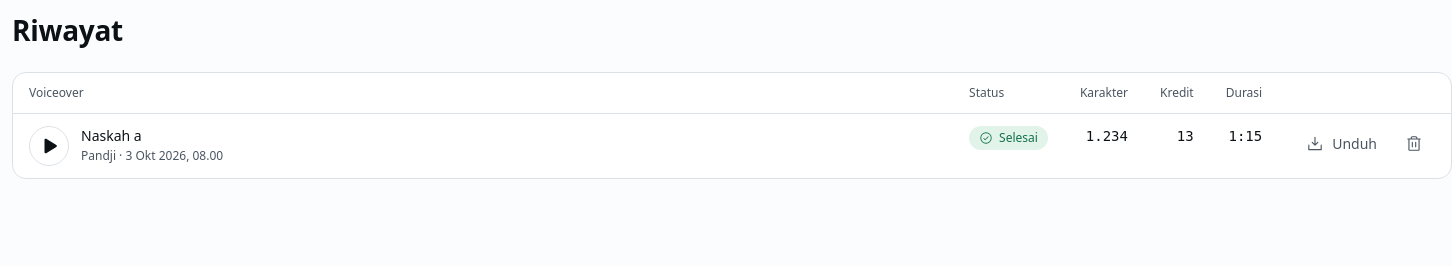
Test: HistoryPage › confirms in a full-width row under the item, moving focus into and out of the prompt
The image size is (1452, 266).
Click the button named "Hapus Naskah a" at coordinates (1414, 144), box [1393,126,1435,162]
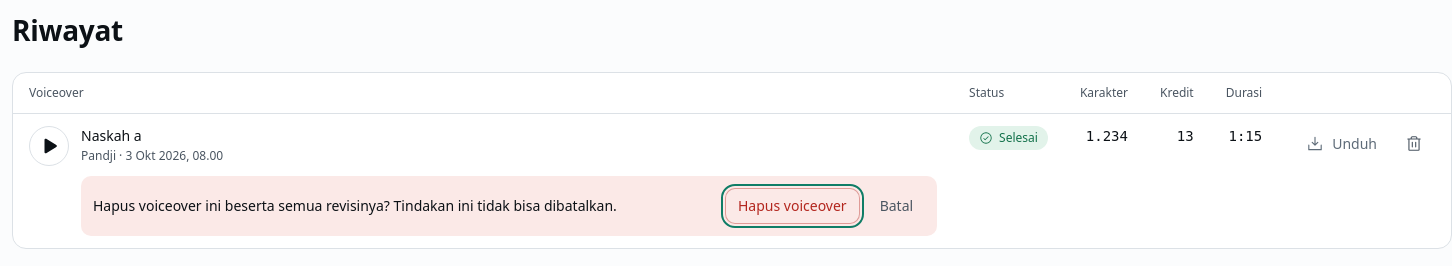
Check: the message shows "tidak bisa dibatalkan", box [93,196,617,215]
Click the button "Batal" at coordinates (896, 206), box [868,188,925,224]
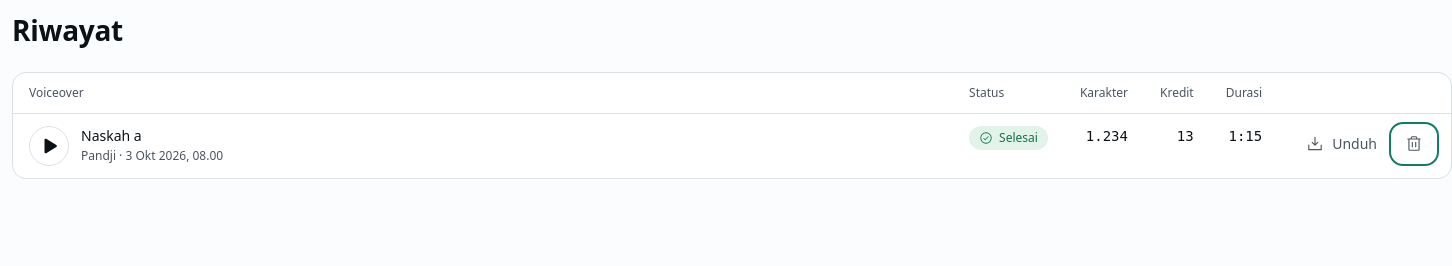
Check: the element with test id "history-confirm" is gone
